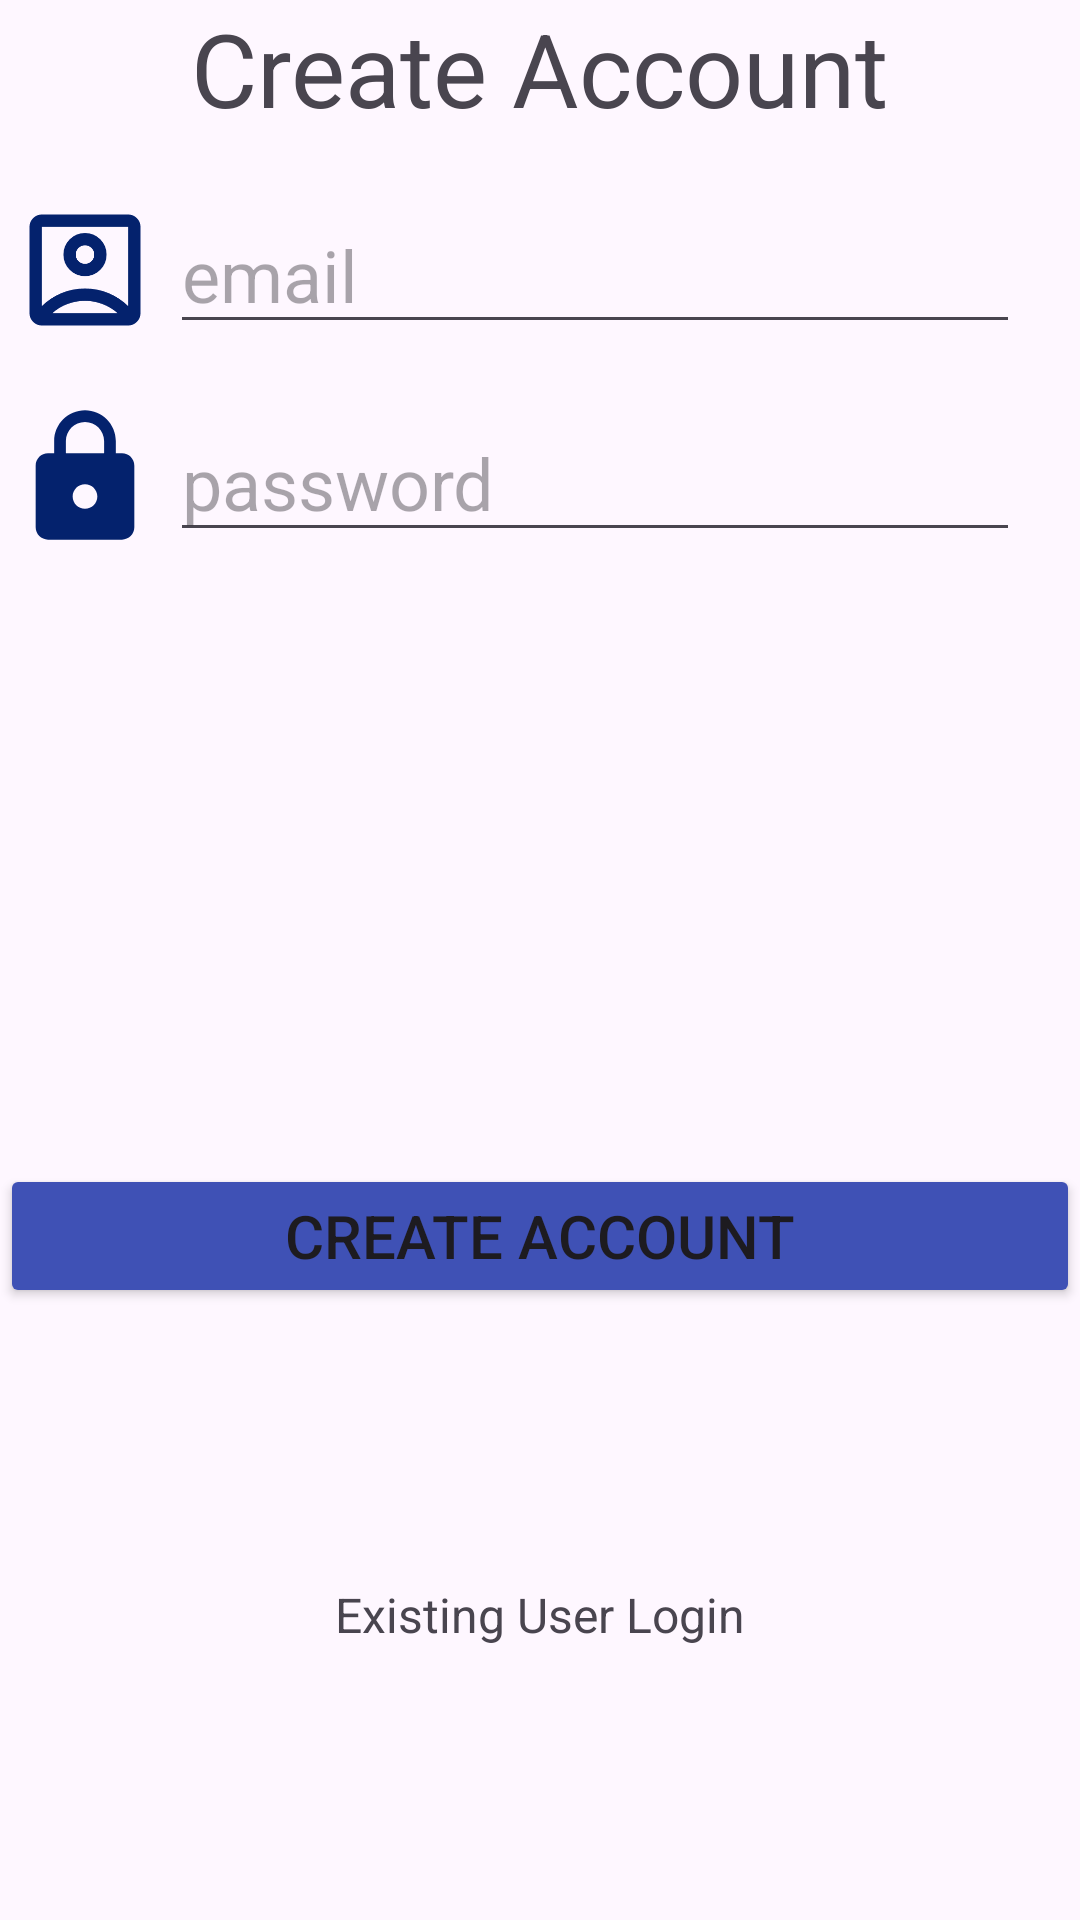

Icon click points for this 1080*1920 phone screenshot, format (x,y):
lock: (85,475)
useraccountbox: (85,270)
